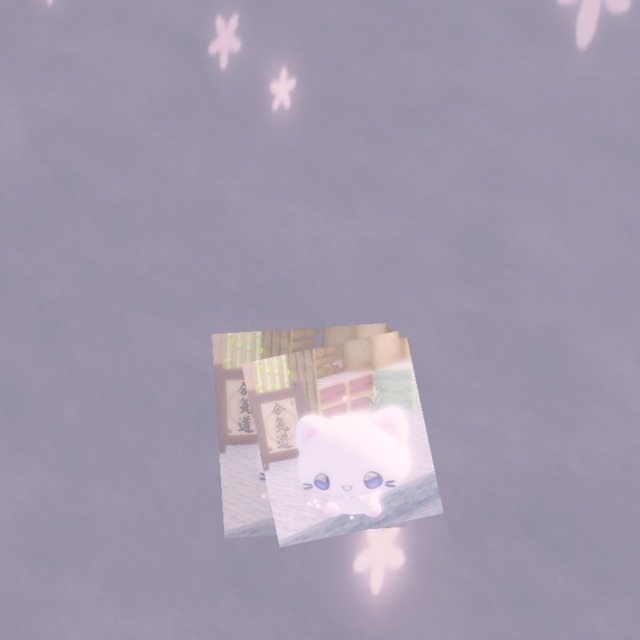urso_branco: (241, 329, 444, 548), (211, 322, 408, 539)
